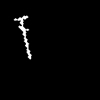double_crochet: (14, 16, 30, 58)
